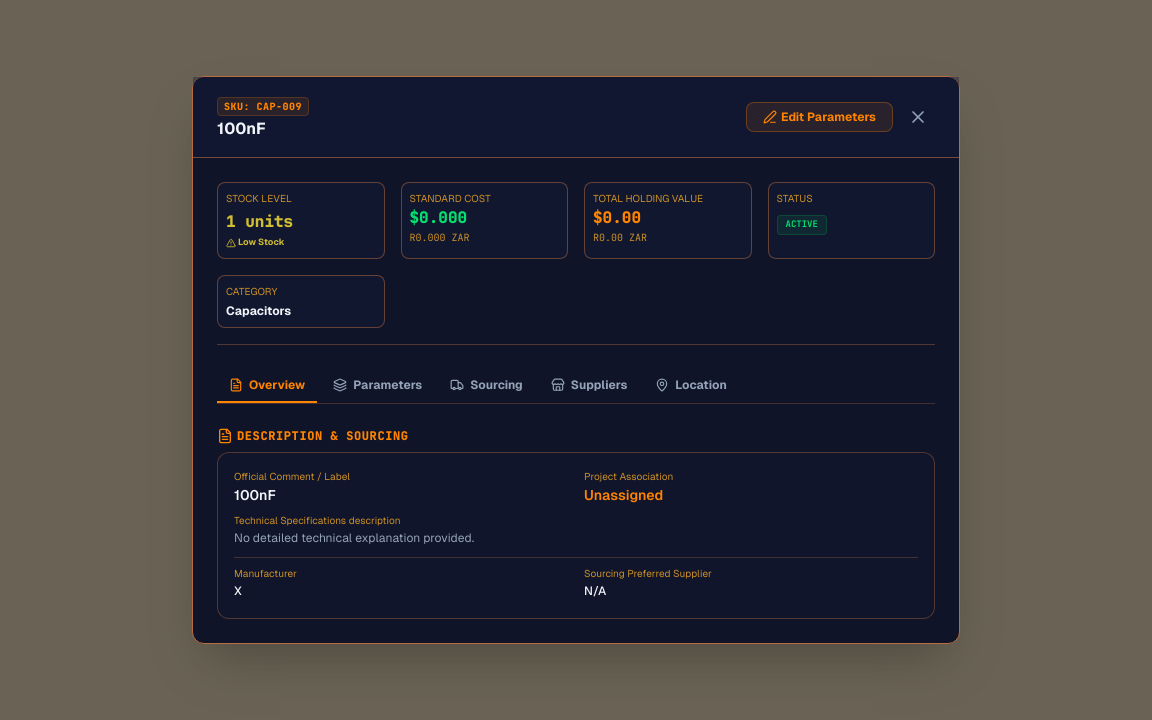
the item form › labels each slot with its supplier and moves a number to the right one
Click the button with id "btn-edit-item".
click(820, 117)  # box [746,102,893,132]
(page scrolled)
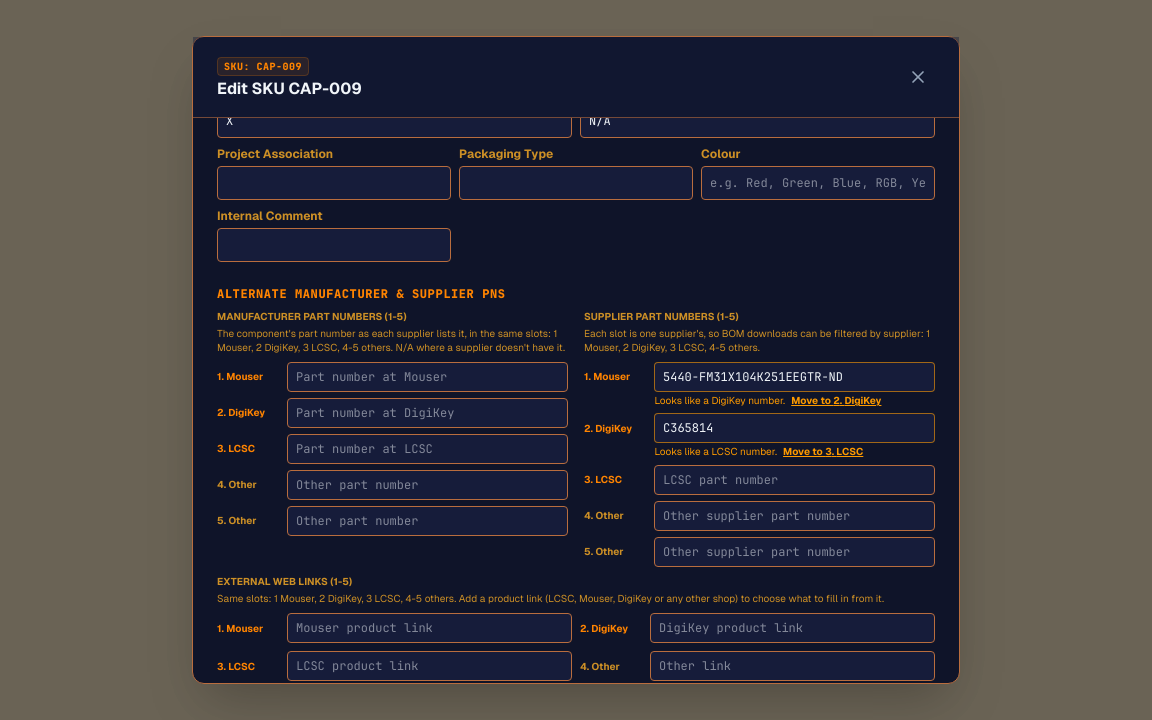
Expected: the text "Looks like a DigiKey number." is shown, [654,394,881,407]
Click the button "Move to 2. DigiKey".
click(836, 401)  # box [791,394,881,407]
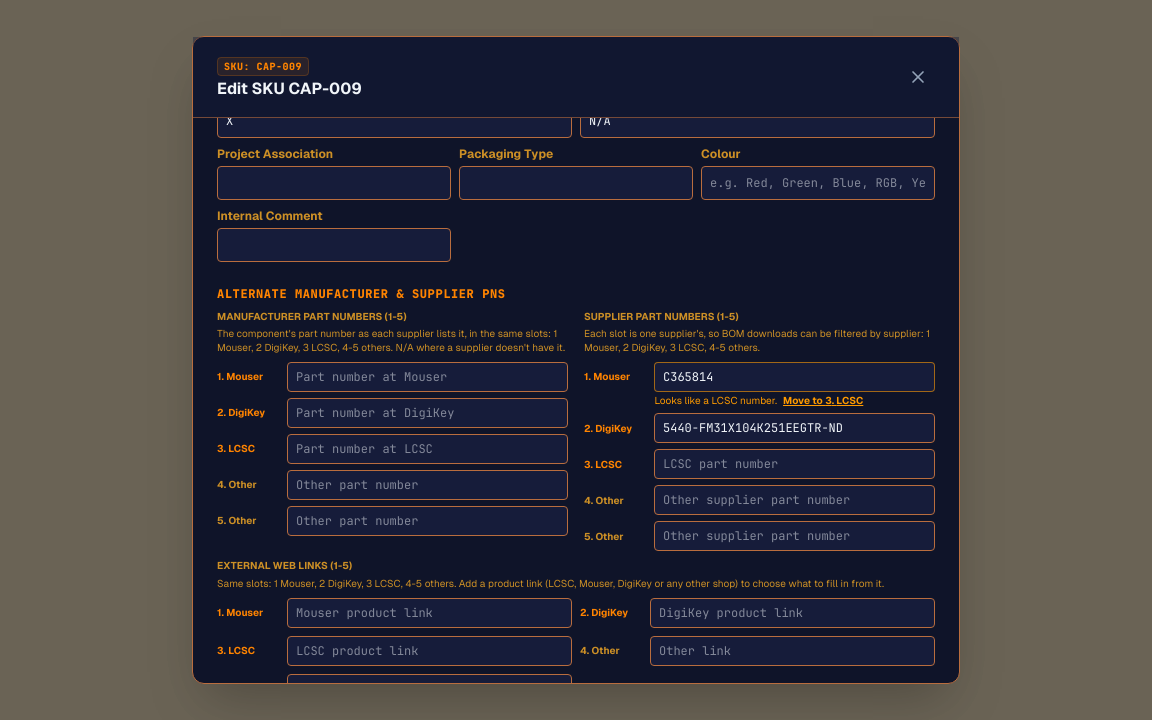
Click the button "Move to 3. LCSC".
click(823, 401)  # box [783,394,863,407]
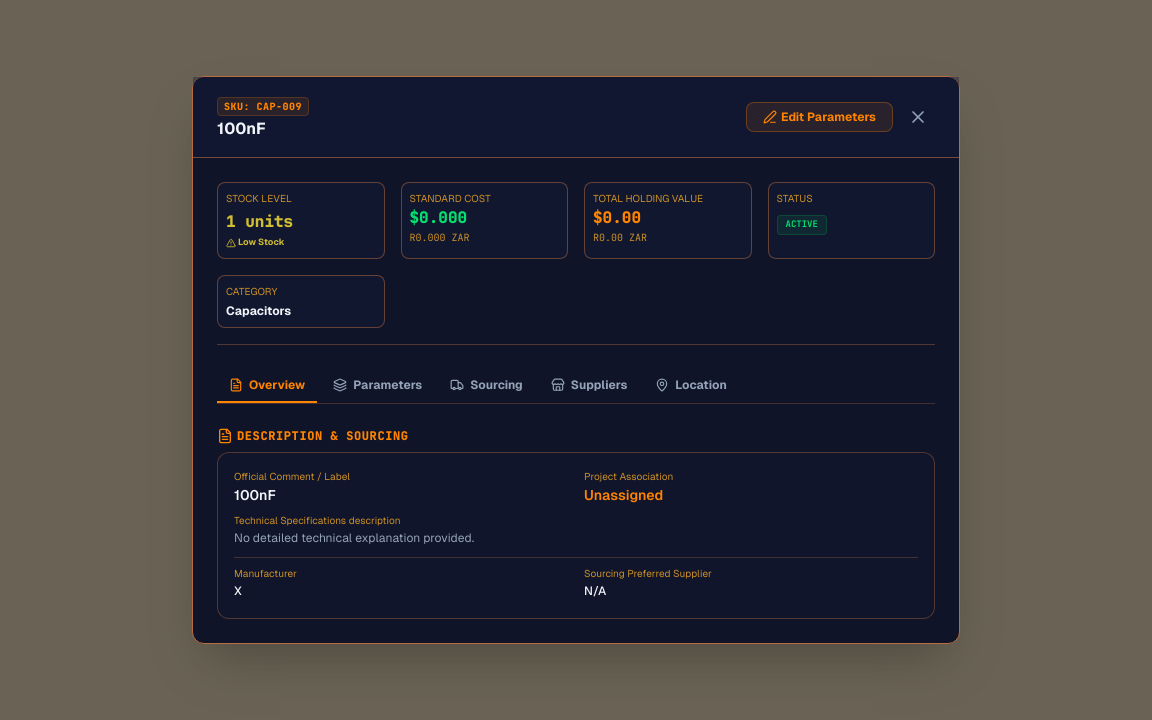
Expected: the text "Looks like" is gone
